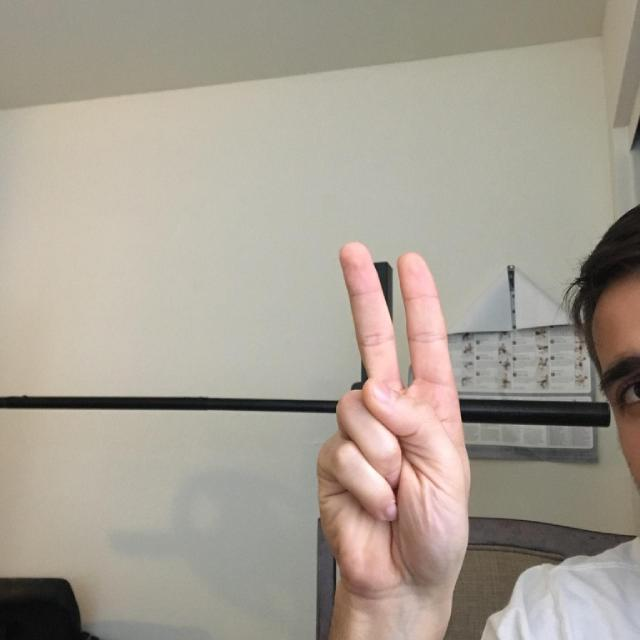K: (296, 207, 565, 639)
